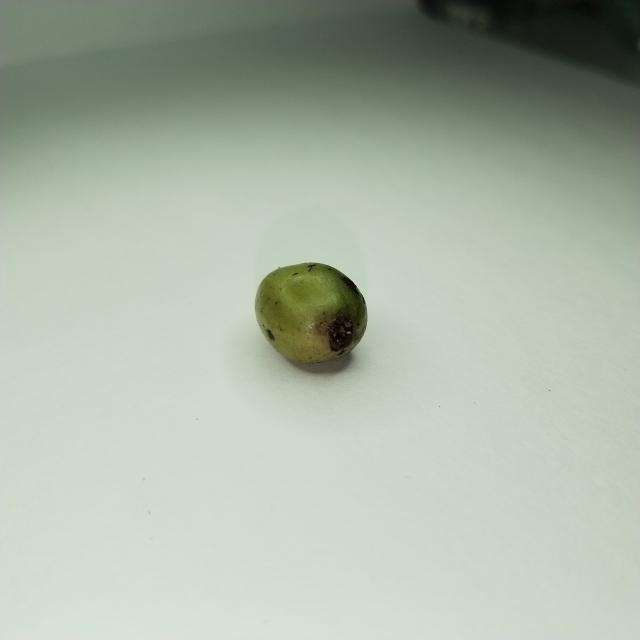Infectado: (255, 263, 367, 364)
